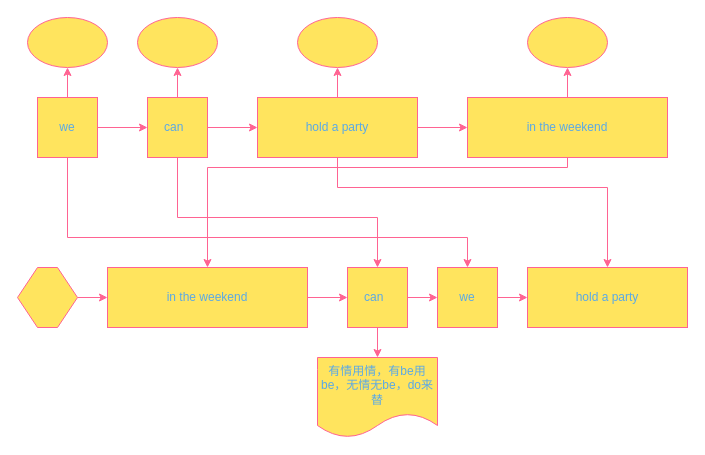
This 705x455 diagram has some shape labels left out. The box of each missing label's shape, as (x1, y1, x2, y2) in pixels:
Only: (16, 266, 78, 328)
主语: (26, 16, 108, 68)
情态动词: (136, 16, 218, 68)
状语/状语从句: (526, 16, 608, 68)
谓语: (296, 16, 378, 68)
